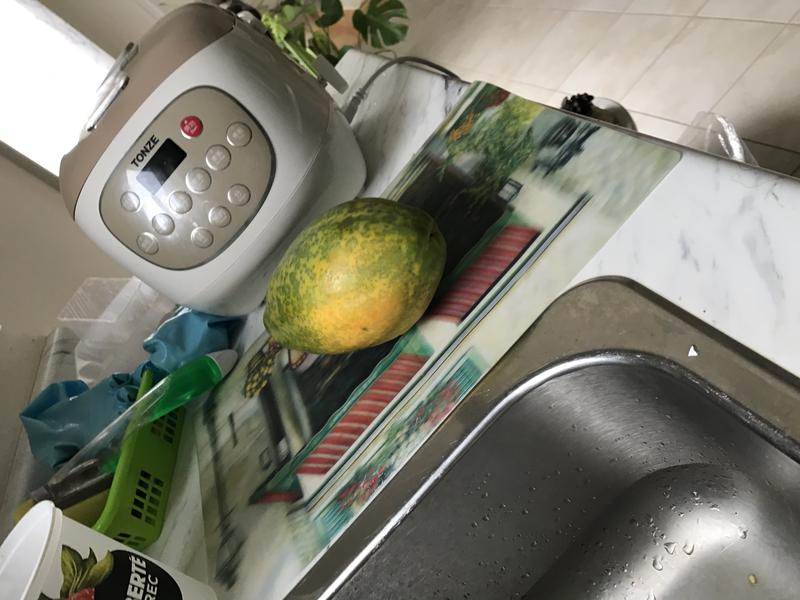papaya: (257, 196, 457, 360)
